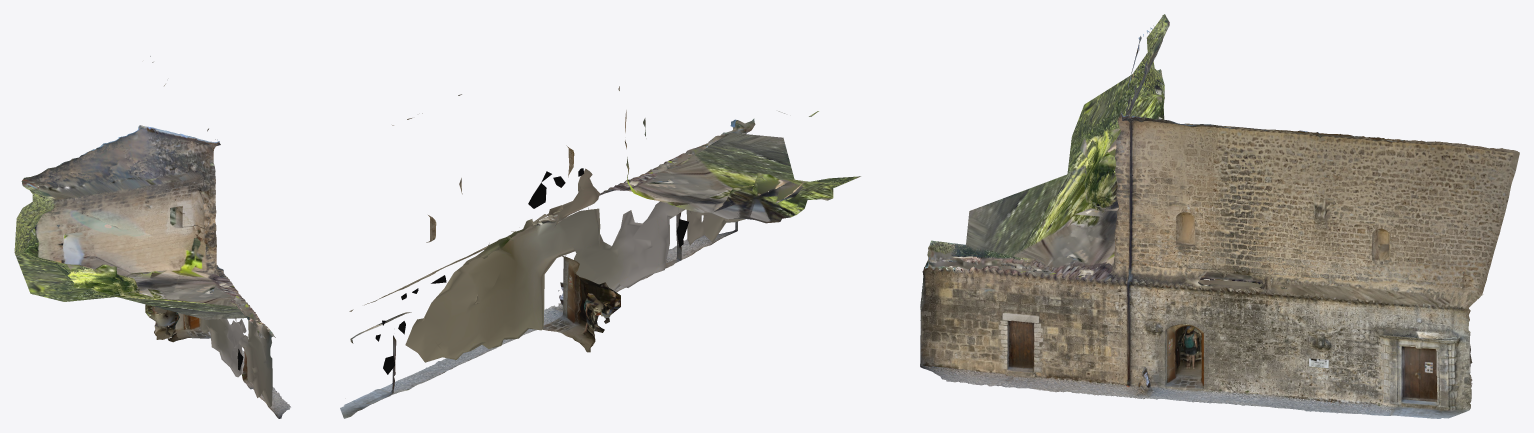
File: medium.glb
The picture shows the model from 3 angles, left to right: view 1: azimuth 30°, elevation 25°; view 2: azimuth 150°, elevation 25°; view 3: azimuth 270°, elevation 25°; orthographic projection. The views are drawn at different scales.
Visible parts, largest first — view 1: medium.015; view 2: medium.015; view 3: medium.015.
Part boxes in pixels (x1,y1,x2,y2): medium.015: [14, 56, 290, 418]; medium.015: [340, 86, 860, 418]; medium.015: [920, 14, 1519, 418].
Bounding box in the file's own units: 13.86 × 12.05 × 21.43.
1 material, 1 textured.
